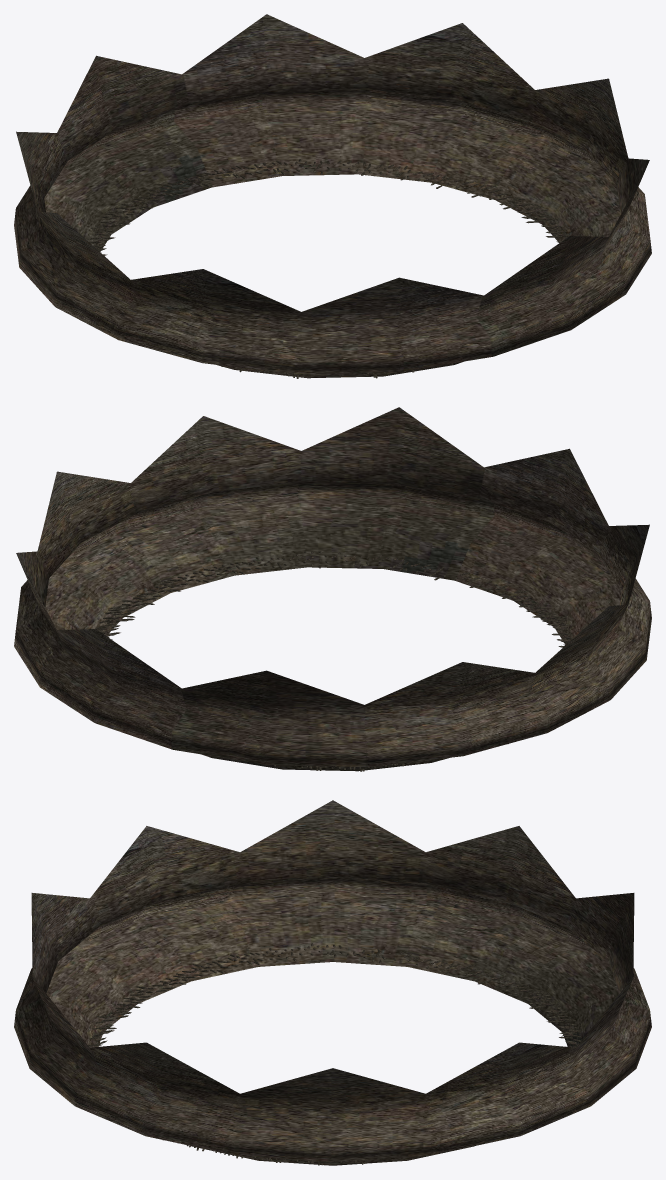
File: arena.fbx
3 renders of one model, top to bottom at view 1: azimuth 30°, elevation 25°; view 2: azimuth 150°, elevation 25°; view 3: azimuth 270°, elevation 25°, orthographic.
Visible parts, largest first — view 1: polySurface2; view 2: polySurface2; view 3: polySurface2.
Boxes of the visible parts, x1=… form: polySurface2: x1=14, y1=14, x2=651, y2=378; polySurface2: x1=14, y1=407, x2=651, y2=771; polySurface2: x1=14, y1=800, x2=651, y2=1165.
Size of the model in its own units: 12182 by 2741 by 12182.
